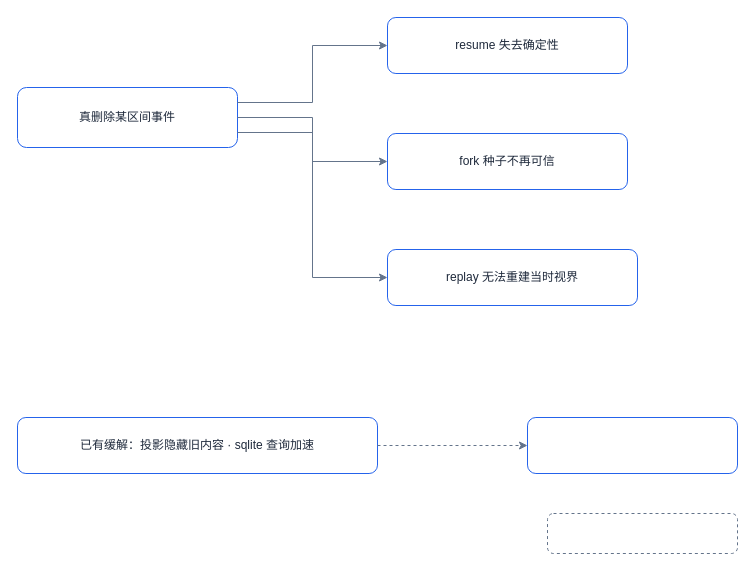
This 755x571 diagram has some shape labels left out. The centre of each missing label's shape, as x and y in pixels:
append-only 日志: pixel 632 445
是遮蔽不是清除: pixel 642 533
